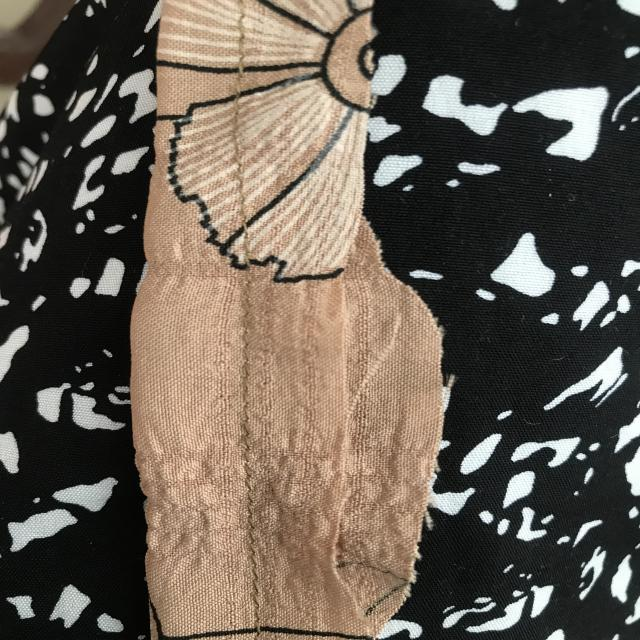good: (231, 418, 281, 608)
